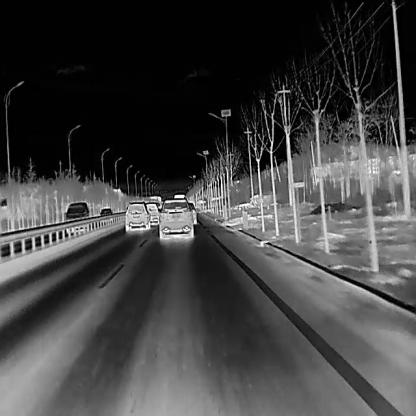car: (157, 197, 195, 239), (123, 199, 149, 232), (64, 201, 89, 232), (144, 201, 160, 224), (98, 206, 111, 222)
